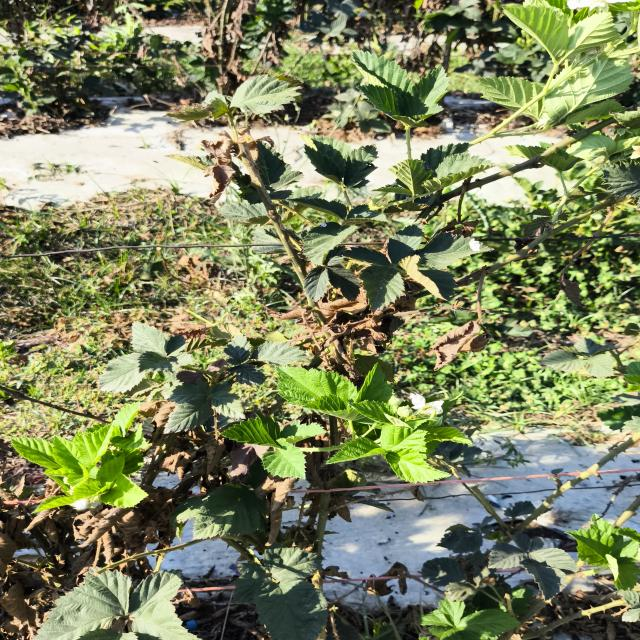boton: (388, 395, 403, 409), (396, 406, 413, 418)
flor: (409, 393, 444, 414)
